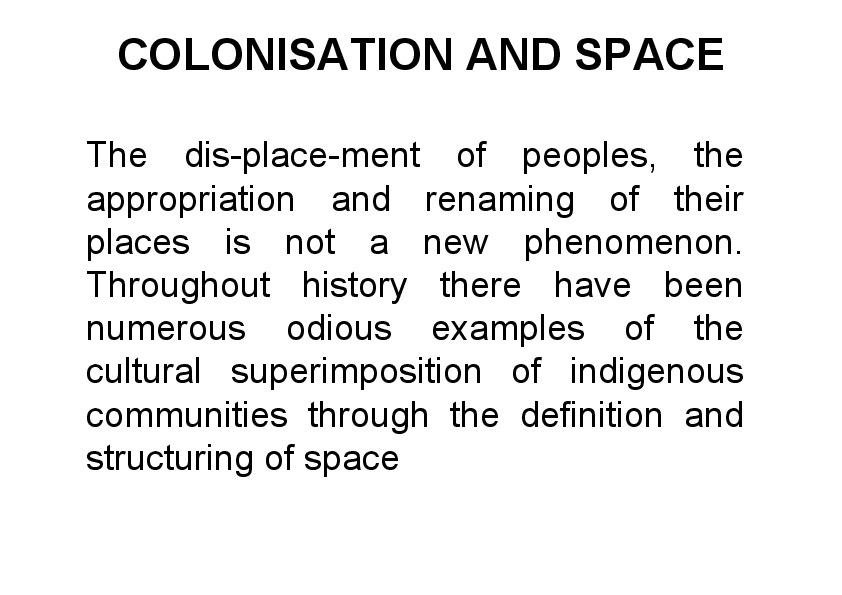paragraph: (72, 111, 763, 490)
title: (118, 26, 732, 82)
